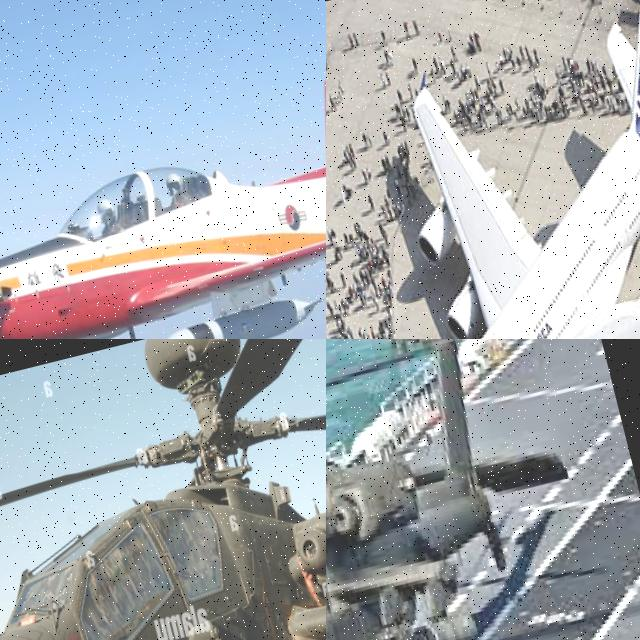A380: (326, 0, 640, 339)
Apache: (0, 339, 326, 640), (326, 339, 626, 640)
KT-1: (0, 53, 326, 339)
